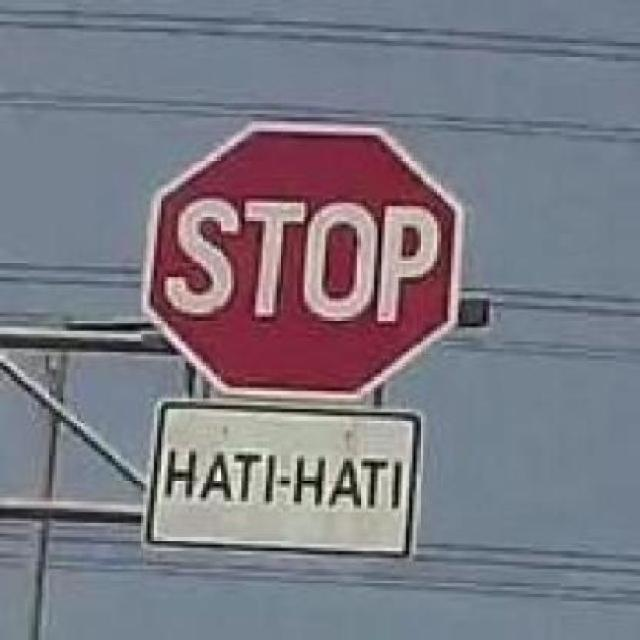stop: (139, 104, 479, 406)
